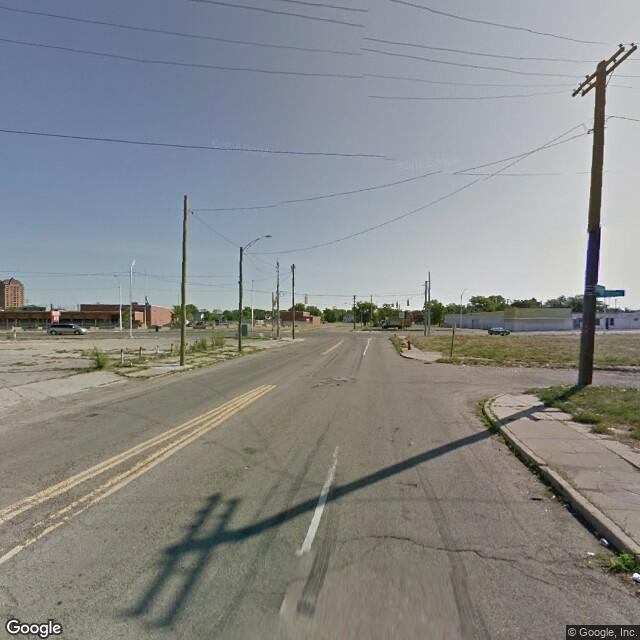litter: (600, 535, 610, 548), (583, 549, 598, 555), (631, 572, 640, 579), (461, 362, 465, 367), (551, 493, 554, 499)
